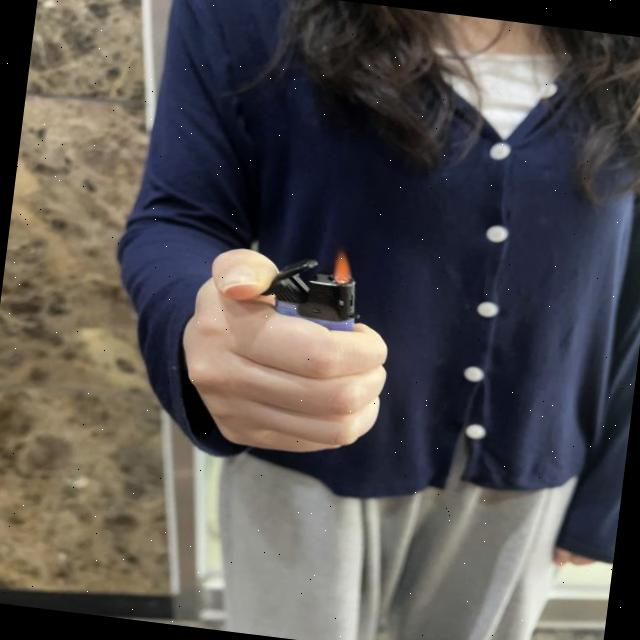fire: (329, 251, 354, 284)
